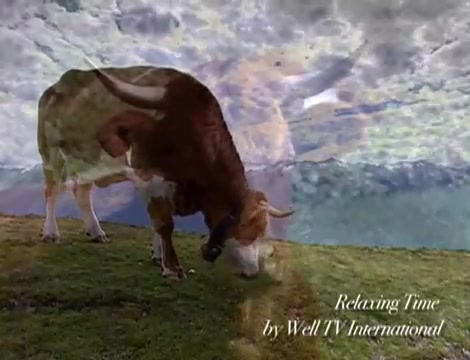cow: (42, 66, 287, 284)
